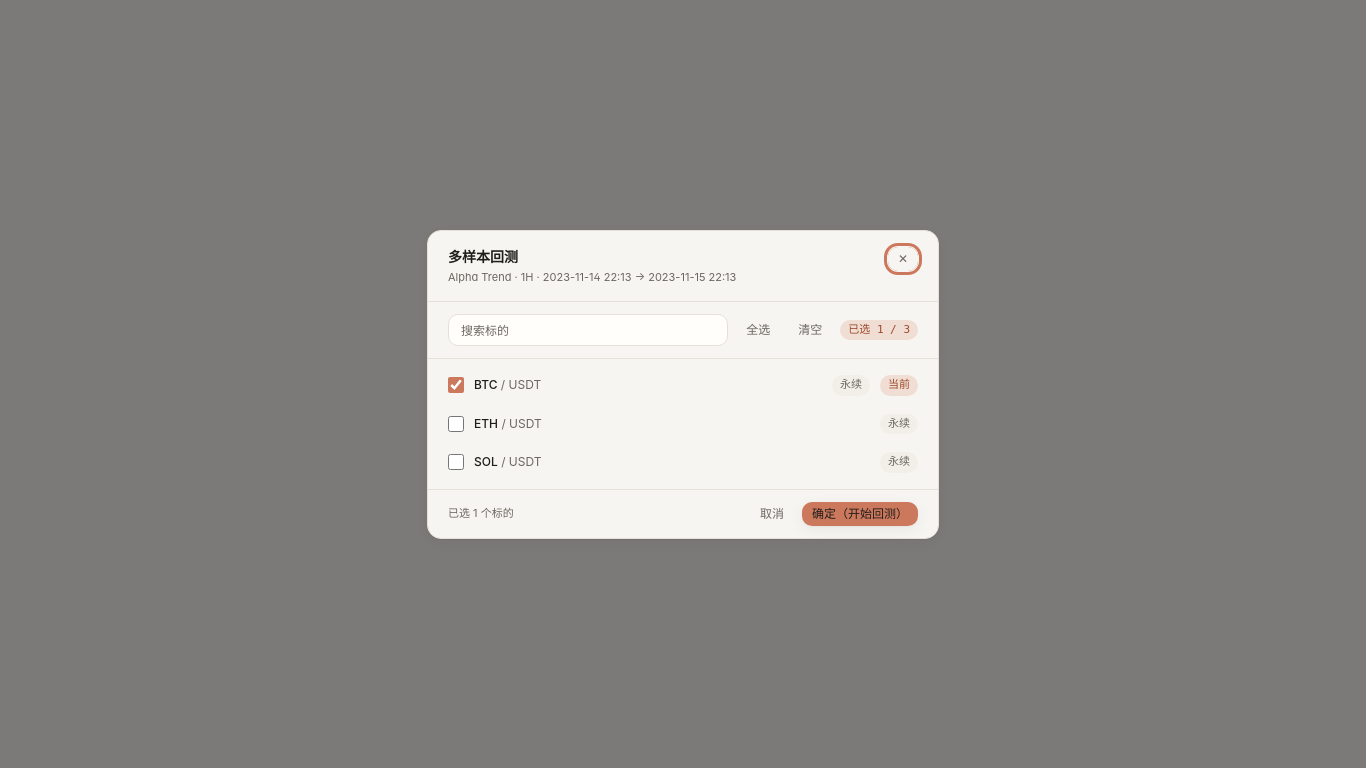
Test: MultiSampleBacktestModal › filters rows by the search query
Type "eth" into the field with placeholder "搜索标的" at [588, 330], box [448, 314, 728, 346]
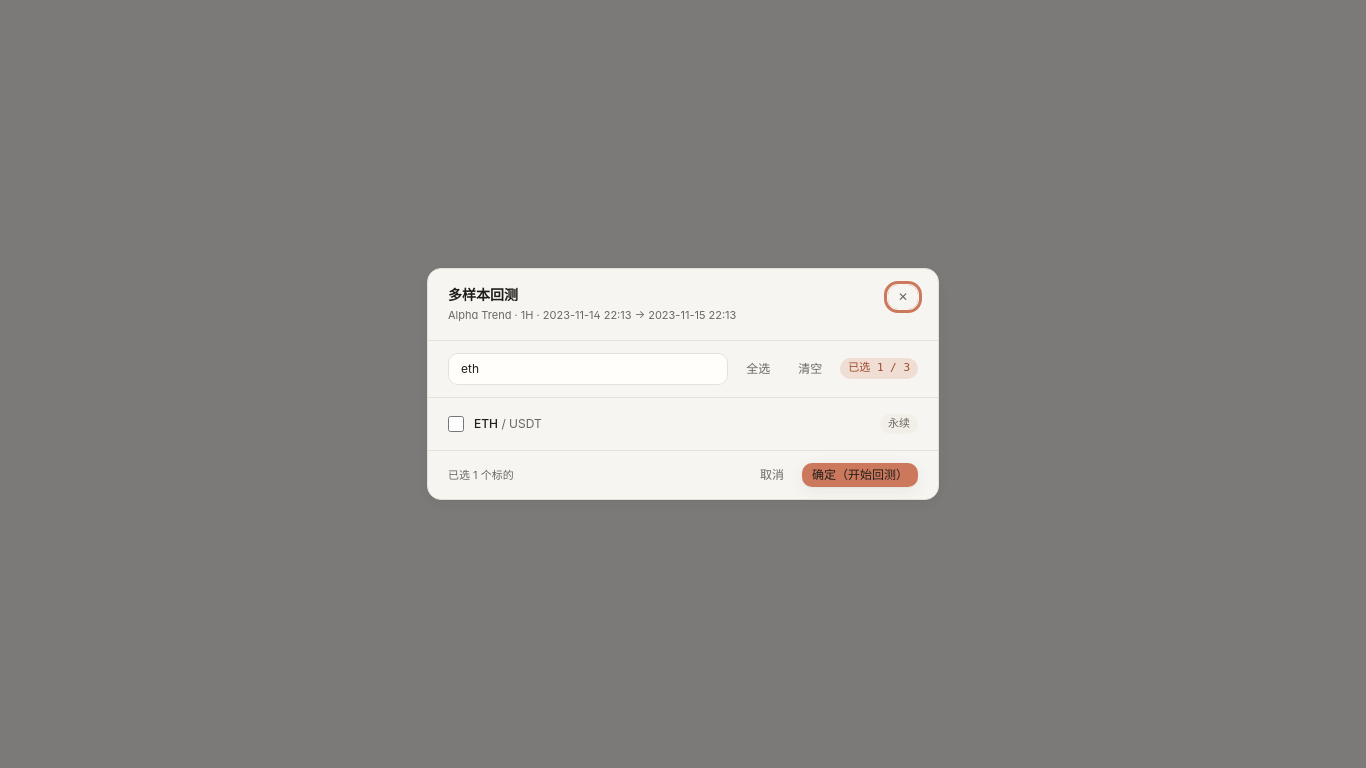
Expected: the number of checkboxes is 1, [448, 416, 464, 432]
